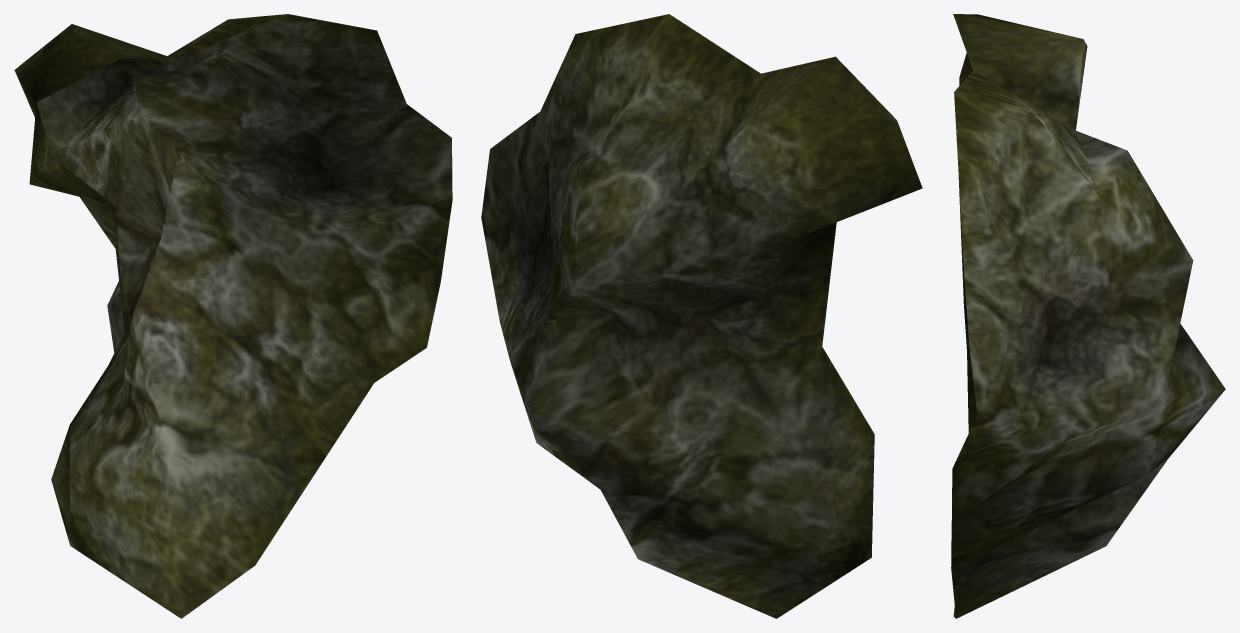
File: MEP_GroundRocks_01_d_LOD_01.fbx
The picture shows the model from 3 angles, left to right: view 1: azimuth 30°, elevation 25°; view 2: azimuth 150°, elevation 25°; view 3: azimuth 270°, elevation 25°; orthographic projection.
Parts seen in each view (by area): view 1: MEP_GroundRock_01_d_LOD_01; view 2: MEP_GroundRock_01_d_LOD_01; view 3: MEP_GroundRock_01_d_LOD_01.
Boxes of the visible parts, box(x1,y1,x2,y2) form: MEP_GroundRock_01_d_LOD_01: box(14, 14, 452, 618); MEP_GroundRock_01_d_LOD_01: box(481, 14, 922, 618); MEP_GroundRock_01_d_LOD_01: box(951, 14, 1225, 618).
Bounding box in the file's own units: 2.34 × 2.99 × 1.29.
